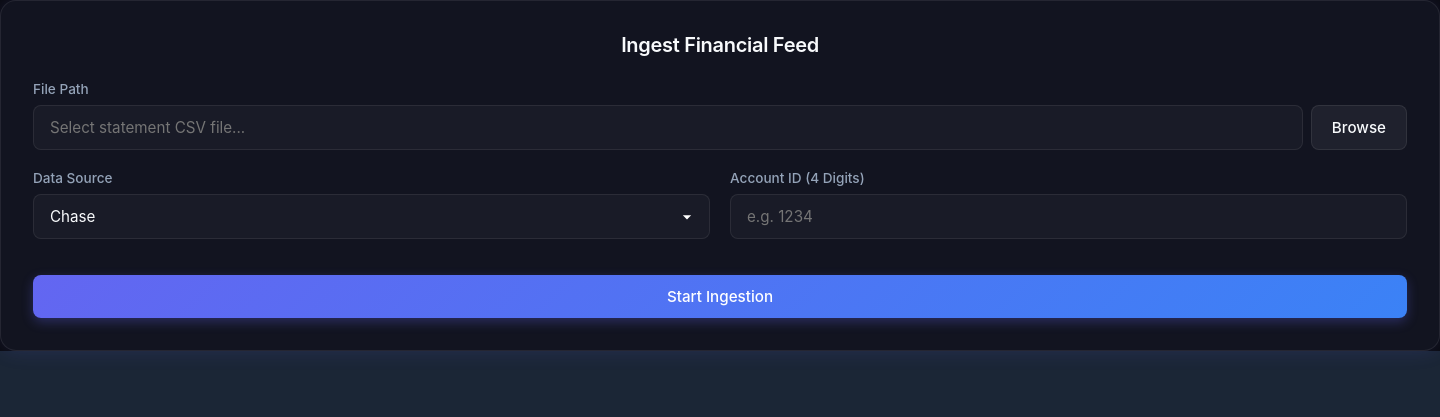
it: UploadForm Component › displays validation errors on empty submission
Click the button "Start Ingestion" at (720, 296), box [33, 275, 1407, 318]
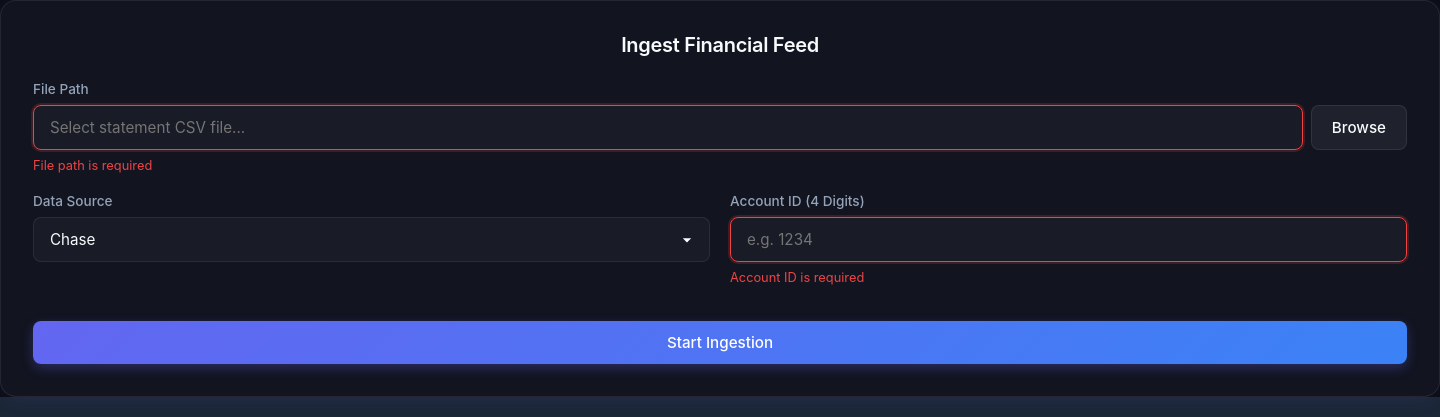
Expected: the text "File path is required" is shown, [33, 158, 152, 173]
Expected: the text "Account ID is required" is shown, [730, 270, 864, 285]
